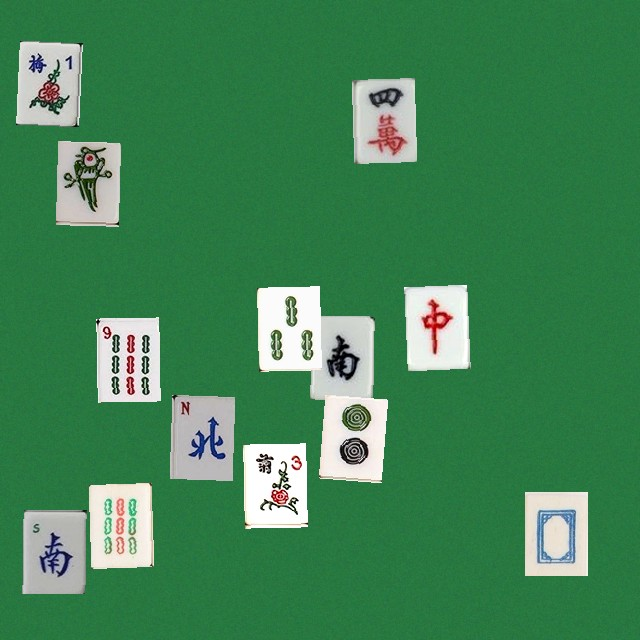tile: (96, 317, 159, 401), (351, 78, 414, 162), (310, 315, 373, 399), (16, 40, 79, 124), (169, 394, 232, 478), (524, 491, 587, 575), (318, 394, 381, 478), (243, 443, 306, 527), (55, 141, 118, 225), (88, 482, 151, 566), (257, 286, 320, 370), (22, 509, 85, 593), (404, 284, 467, 368)
